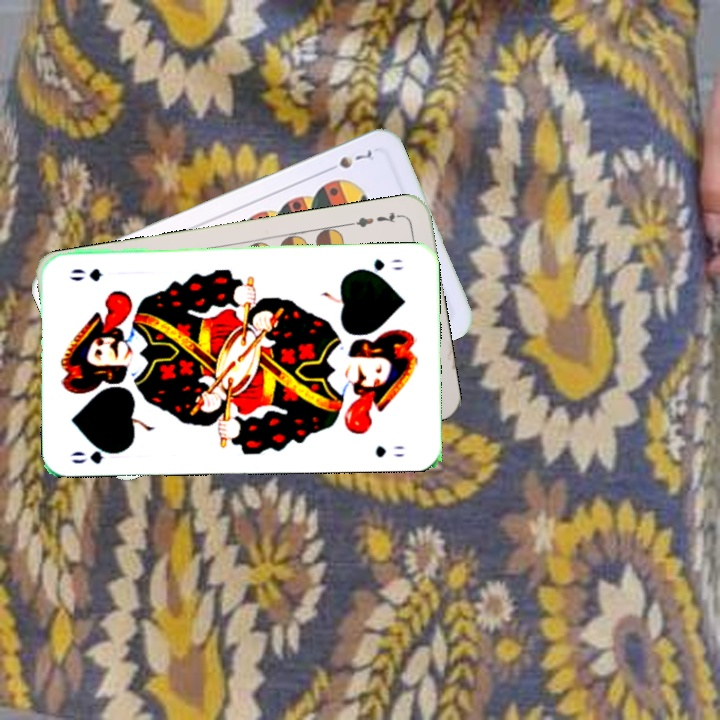E7: (346, 208, 405, 230)
GO: (67, 441, 126, 467), (354, 255, 406, 277)
S7: (321, 145, 375, 175)
